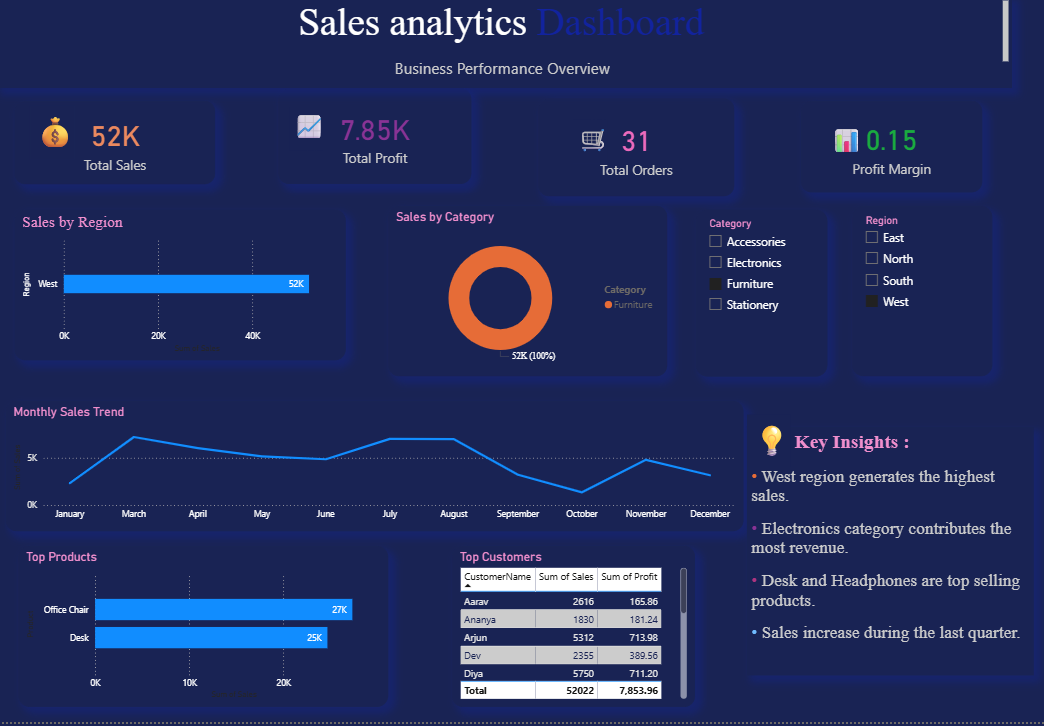

What the dashboard file says about the page in this screenshot:
{"tool":"powerbi","page":{"name":"Page 1","canvas":[1450,1000],"ordinal":0},"visuals":[{"type":"card","fields":{"Values":["powerbi_sales_dataset.Total Sales"]},"box":[23.3,143.3,276.7,115],"z":0},{"type":"card","fields":{"Values":["powerbi_sales_dataset.Total Profit"]},"box":[388.3,126.7,266.7,131.7],"z":1000},{"type":"card","fields":{"Values":["powerbi_sales_dataset.Total Orders"]},"box":[746.7,140,270,135],"z":2000},{"type":"card","fields":{"Values":["powerbi_sales_dataset.Profit Margin"]},"box":[1108.3,143.3,250,126.7],"z":3000},{"type":"clusteredBarChart","title":"Sales by Region","fields":{"Category":["powerbi_sales_dataset.Region"],"Y":["Sum(powerbi_sales_dataset.Sales)"]},"box":[23.3,293.3,456.7,208.3],"z":4000},{"type":"donutChart","title":"Sales by Category","fields":{"Category":["powerbi_sales_dataset.Category"],"Y":["Sum(powerbi_sales_dataset.Sales)"]},"box":[540,288.3,385,235],"z":5000},{"type":"lineChart","title":"Monthly Sales Trend","fields":{"Category":["powerbi_sales_dataset.Date.Variation.Date Hierarchy.Month"],"Y":["Sum(powerbi_sales_dataset.Sales)"]},"box":[12.5,557.5,1017.5,180],"z":6000},{"type":"clusteredBarChart","title":"Top Products","fields":{"Category":["powerbi_sales_dataset.Product"],"Y":["Sum(powerbi_sales_dataset.Sales)"]},"box":[30,757.5,510,222.5],"z":7000},{"type":"tableEx","title":"Top Customers","fields":{"Values":["powerbi_sales_dataset.CustomerName","Sum(powerbi_sales_dataset.Sales)","Sum(powerbi_sales_dataset.Profit)"]},"box":[627.5,757.5,335,222.5],"z":8000},{"type":"slicer","fields":{"Values":["powerbi_sales_dataset.Category"]},"box":[963.3,293.3,181.7,230],"z":9000},{"type":"slicer","fields":{"Values":["powerbi_sales_dataset.Region"]},"box":[1180,288.3,193.3,235],"z":10000},{"type":"textbox","box":[1035,592.5,395,342.5],"z":11000},{"type":"textbox","box":[44.1,150.8,62.7,74.6],"z":12000},{"type":"textbox","box":[403.3,151.7,48.3,60],"z":13000},{"type":"textbox","box":[794.9,169.5,47.5,61],"z":14000},{"type":"textbox","box":[1145,170,50,60],"z":15000},{"type":"textbox","box":[0,0,1400,125.9],"z":16000},{"type":"textbox","box":[1035,575,60,72.5],"z":17000}]}

Visuals, with their boxes in screenshot pixels (x1, y1, x2, y2), scaled from the page's 1450x1000 canvas onto the 1044x726 screenshot:
card - powerbi_sales_dataset.Total Sales: {"left": 17, "top": 104, "right": 216, "bottom": 188}
card - powerbi_sales_dataset.Total Profit: {"left": 280, "top": 92, "right": 472, "bottom": 188}
card - powerbi_sales_dataset.Total Orders: {"left": 538, "top": 102, "right": 732, "bottom": 200}
card - powerbi_sales_dataset.Profit Margin: {"left": 798, "top": 104, "right": 978, "bottom": 196}
"Sales by Region" clusteredBarChart: {"left": 17, "top": 213, "right": 346, "bottom": 364}
"Sales by Category" donutChart: {"left": 389, "top": 209, "right": 666, "bottom": 380}
"Monthly Sales Trend" lineChart: {"left": 9, "top": 405, "right": 742, "bottom": 535}
"Top Products" clusteredBarChart: {"left": 22, "top": 550, "right": 389, "bottom": 711}
"Top Customers" tableEx: {"left": 452, "top": 550, "right": 693, "bottom": 711}
slicer - powerbi_sales_dataset.Category: {"left": 694, "top": 213, "right": 824, "bottom": 380}
slicer - powerbi_sales_dataset.Region: {"left": 850, "top": 209, "right": 989, "bottom": 380}
textbox: {"left": 745, "top": 430, "right": 1030, "bottom": 679}
textbox: {"left": 32, "top": 109, "right": 77, "bottom": 164}
textbox: {"left": 290, "top": 110, "right": 325, "bottom": 154}
textbox: {"left": 572, "top": 123, "right": 607, "bottom": 167}
textbox: {"left": 824, "top": 123, "right": 860, "bottom": 167}
textbox: {"left": 0, "top": 0, "right": 1008, "bottom": 91}
textbox: {"left": 745, "top": 417, "right": 788, "bottom": 470}
